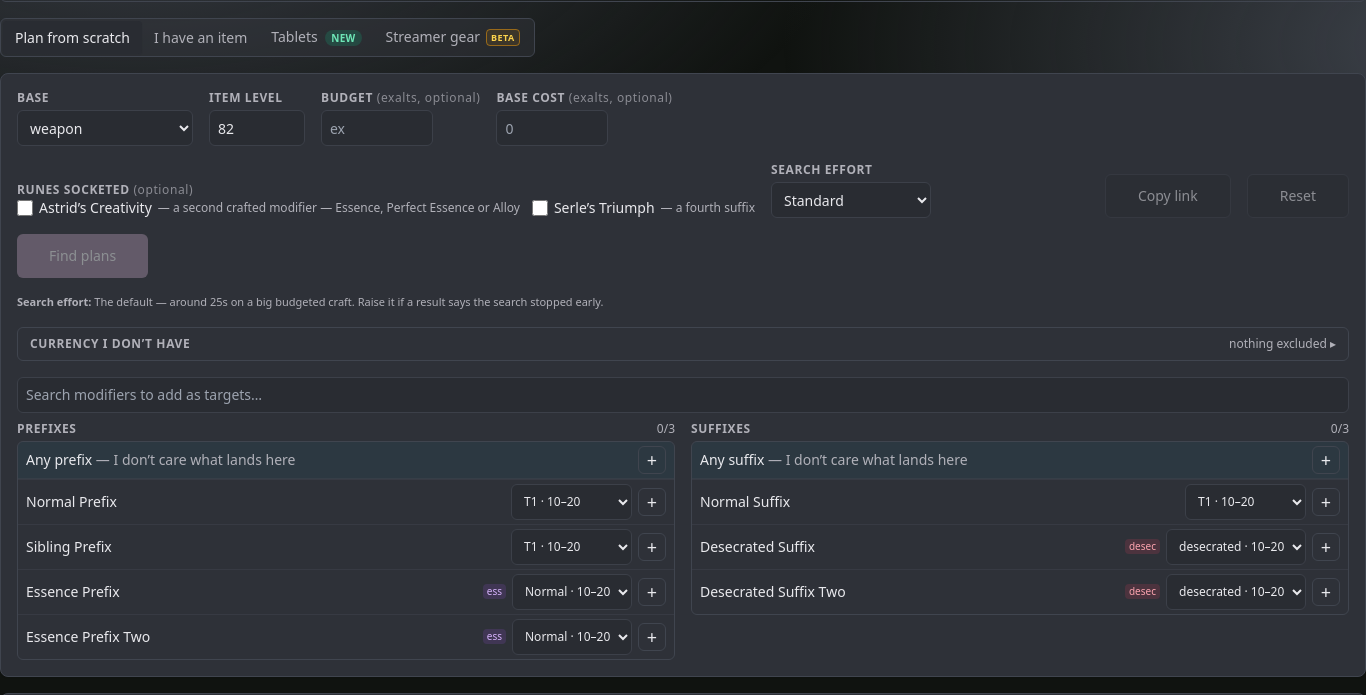
it: EngineLab — the true cost of a craft from scratch › renders an unfinished push-forward solve as a floor
Expected: the field with placeholder "Search modifiers to add as targets…" is shown, top-left (17, 377), bottom-right (1349, 413)
Click the button "+" in the row of "Normal Prefix".
click(652, 502)  # box top-left (638, 488), bottom-right (666, 516)
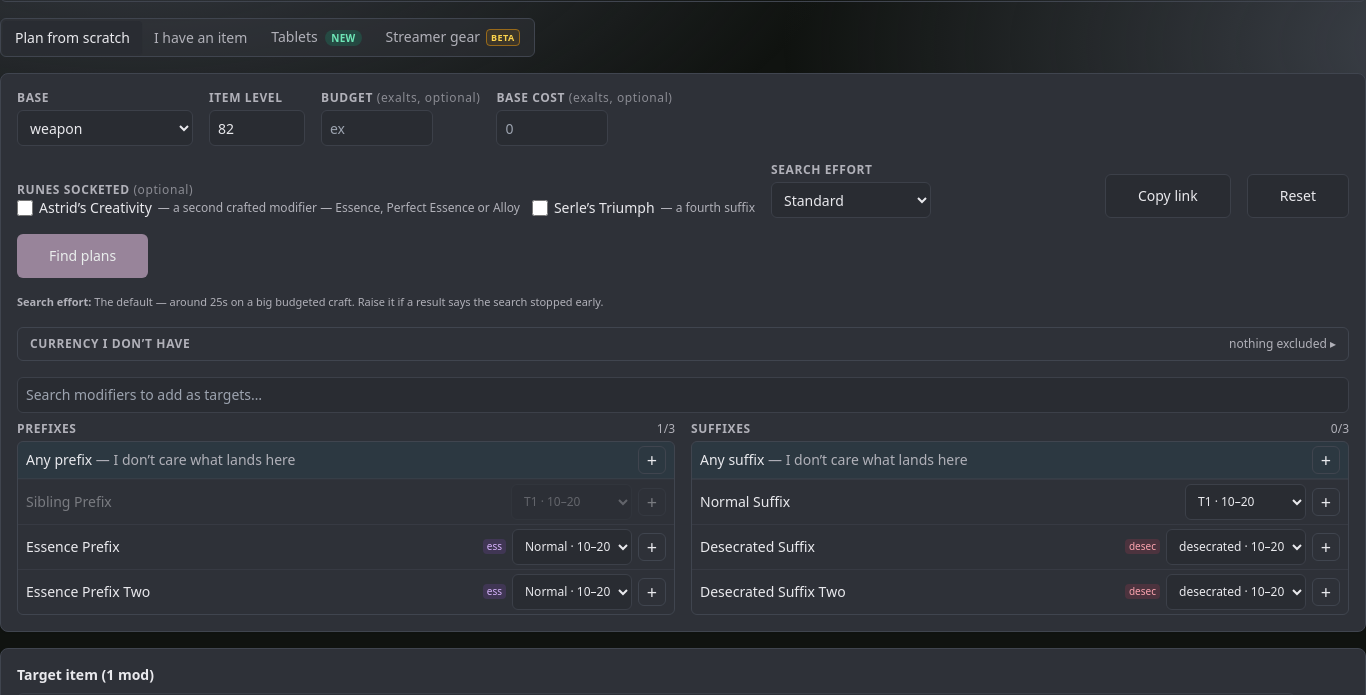
Click the button "Find plans".
click(83, 256)  # box top-left (17, 234), bottom-right (148, 278)
(page scrolled)
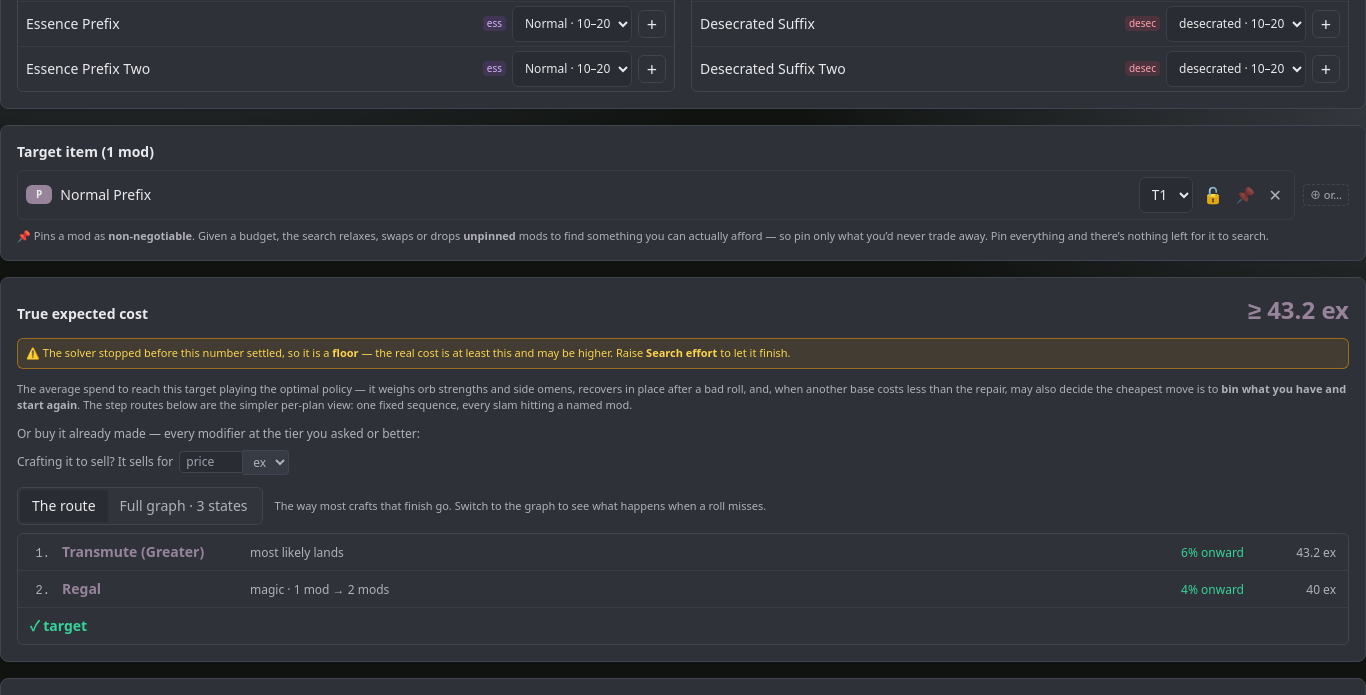
Expected: the text "≥ 43.2 ex" is shown, top-left (1248, 294), bottom-right (1349, 326)
Expected: the text "floor" is shown, top-left (332, 345), bottom-right (358, 360)
